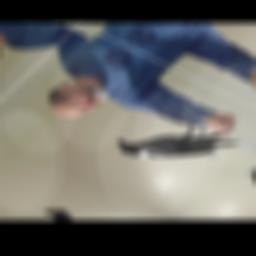Crow: (109, 99, 247, 191)
